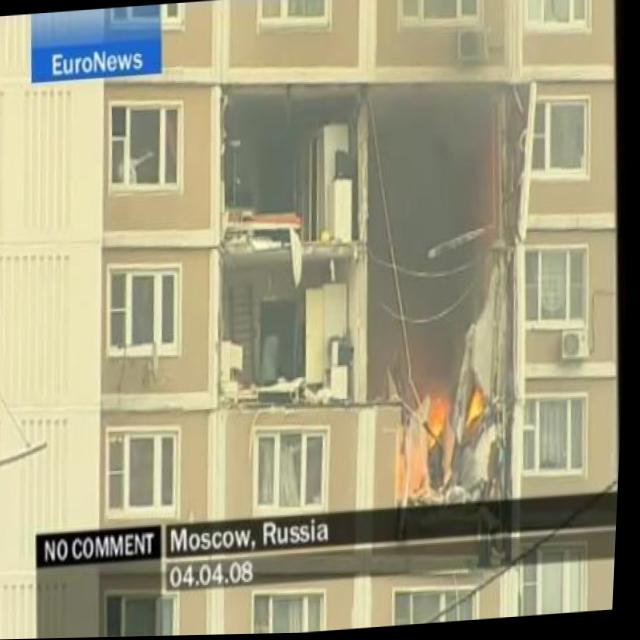fire: (424, 379, 460, 453), (471, 384, 494, 433)
